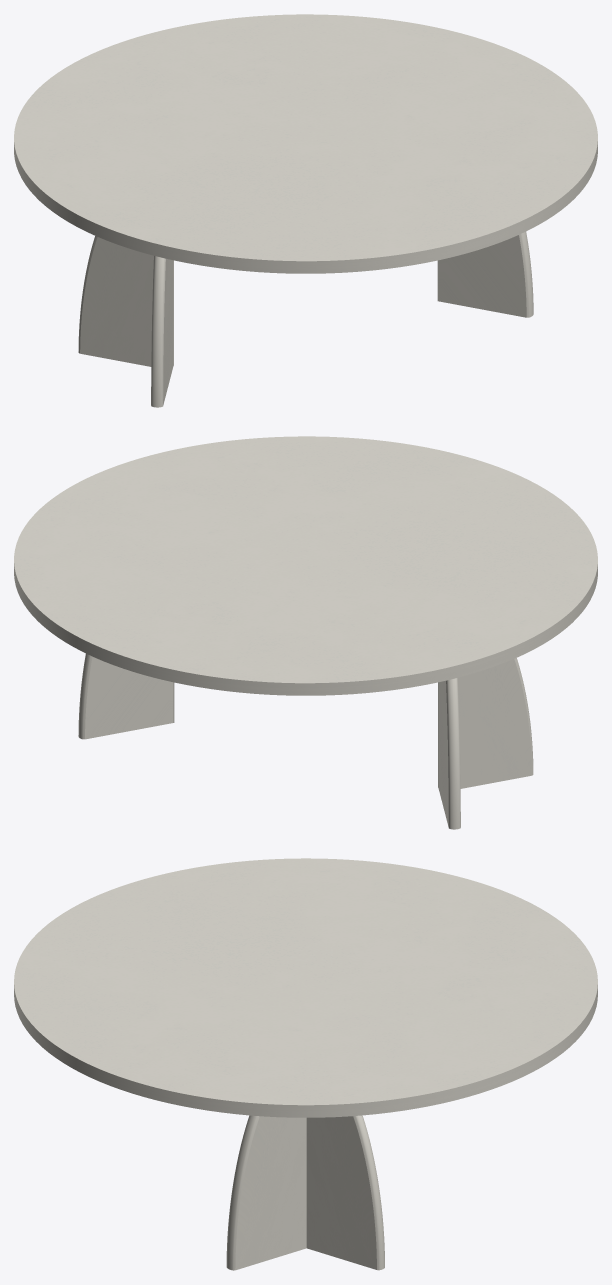
File: pale_round_standard_newtable2.glb
The picture shows the model from 3 angles, top to bottom: view 1: azimuth 30°, elevation 25°; view 2: azimuth 150°, elevation 25°; view 3: azimuth 270°, elevation 25°; orthographic projection.
Visible parts, largest first — view 1: standard_round, newtable2_singleleft1, newtable2_singleright2, newtable2_singleright1; view 2: standard_round, newtable2_singleright1, newtable2_singleleft2, newtable2_singleleft1; view 3: standard_round, newtable2_singleright2, newtable2_singleleft2.
Boxes of the visible parts, box(x1,y1,x2,y2) form: standard_round: box(14, 14, 597, 273); newtable2_singleleft1: box(78, 236, 173, 366); newtable2_singleright2: box(437, 231, 533, 317); newtable2_singleright1: box(151, 256, 173, 407); standard_round: box(14, 436, 597, 695); newtable2_singleright1: box(438, 658, 533, 788); newtable2_singleleft2: box(78, 653, 173, 739); newtable2_singleleft1: box(438, 678, 460, 829); standard_round: box(14, 858, 597, 1117); newtable2_singleright2: box(226, 1115, 306, 1270); newtable2_singleleft2: box(306, 1115, 384, 1270).
Bounding box in the file's own units: 6.75 × 2.49 × 6.75.
1 material, 1 textured.
